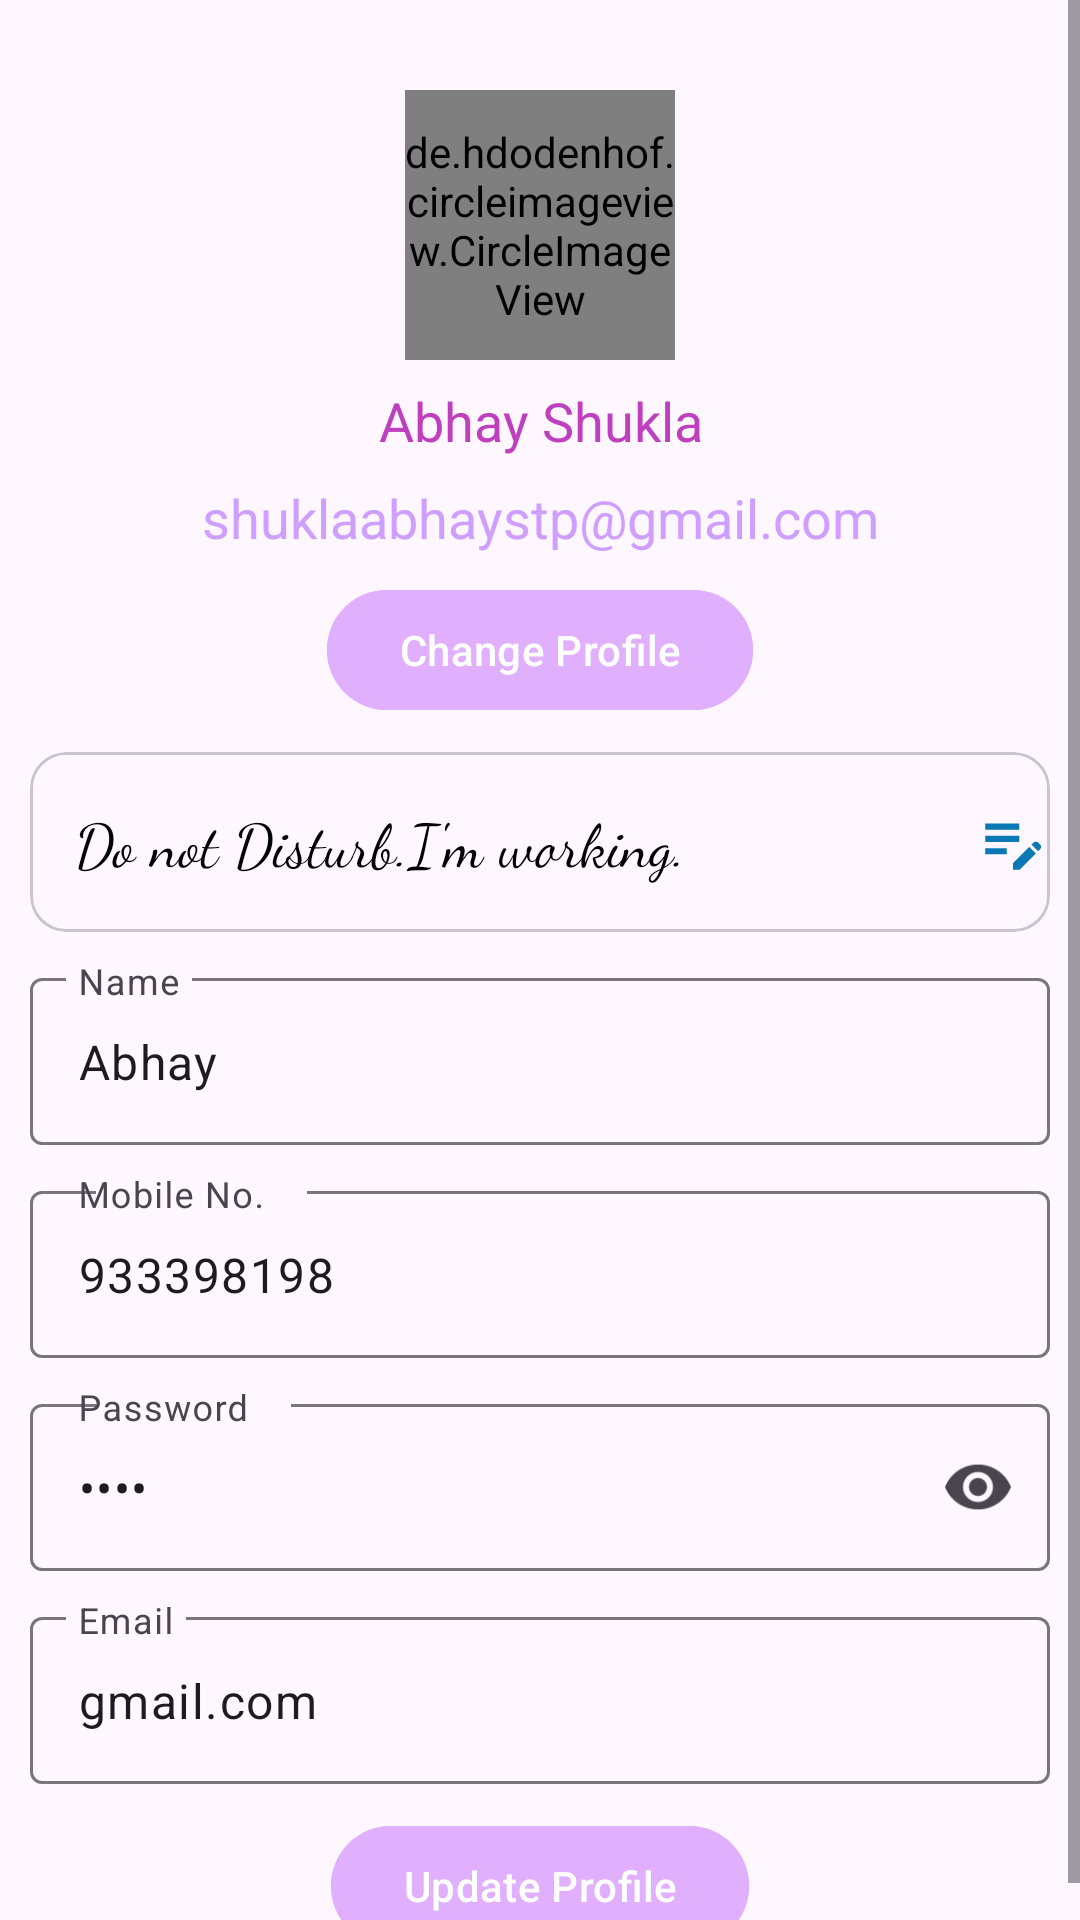

Where icons sit on this 1080 × 1920 app screen, as {"x1": x1, "y1": y1, "x2": x2, "y2": y2}:
edit note: {"x1": 985, "y1": 823, "x2": 1041, "y2": 870}
